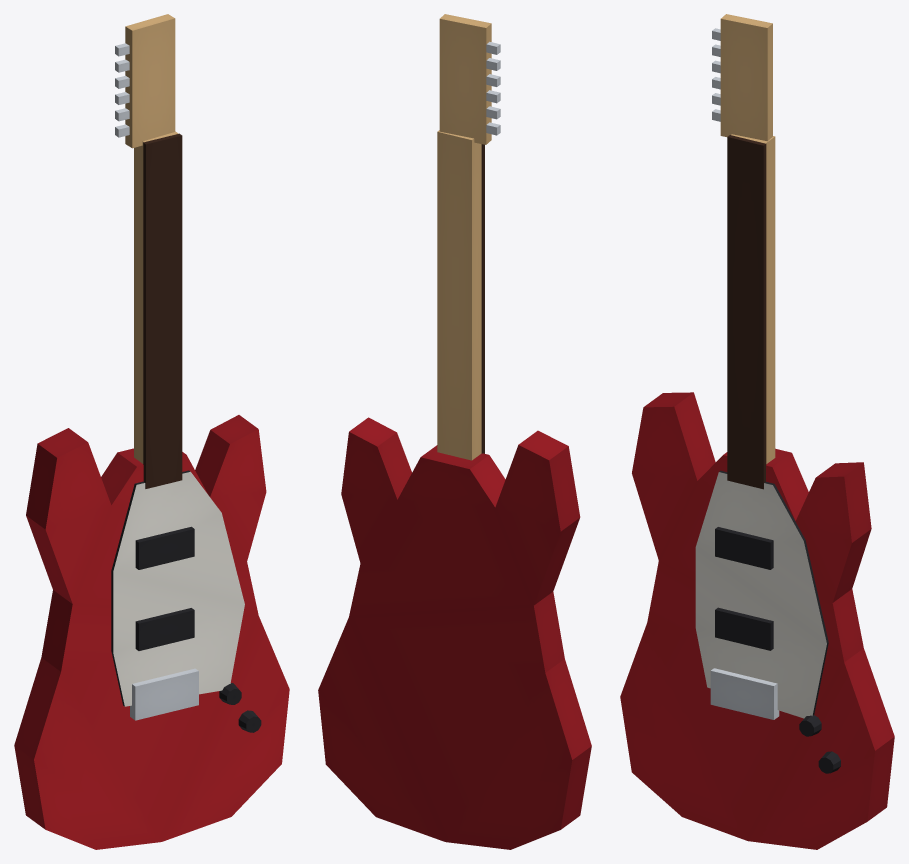
The model's file is ElectricGuitar.fbx.
The picture shows the model from 3 angles, left to right: view 1: azimuth 30°, elevation 25°; view 2: azimuth 150°, elevation 25°; view 3: azimuth 330°, elevation 25°; orthographic projection.
Visible parts, largest first — view 1: ElectricGuitar; view 2: ElectricGuitar; view 3: ElectricGuitar.
Boxes of the visible parts, x1,y1,x2,y2 form: ElectricGuitar: (14, 14, 289, 849); ElectricGuitar: (318, 14, 591, 849); ElectricGuitar: (620, 14, 894, 849).
Bounding box in the file's own units: 0.33 × 1.01 × 0.059.
Materials: 1 (1 with a texture image).
